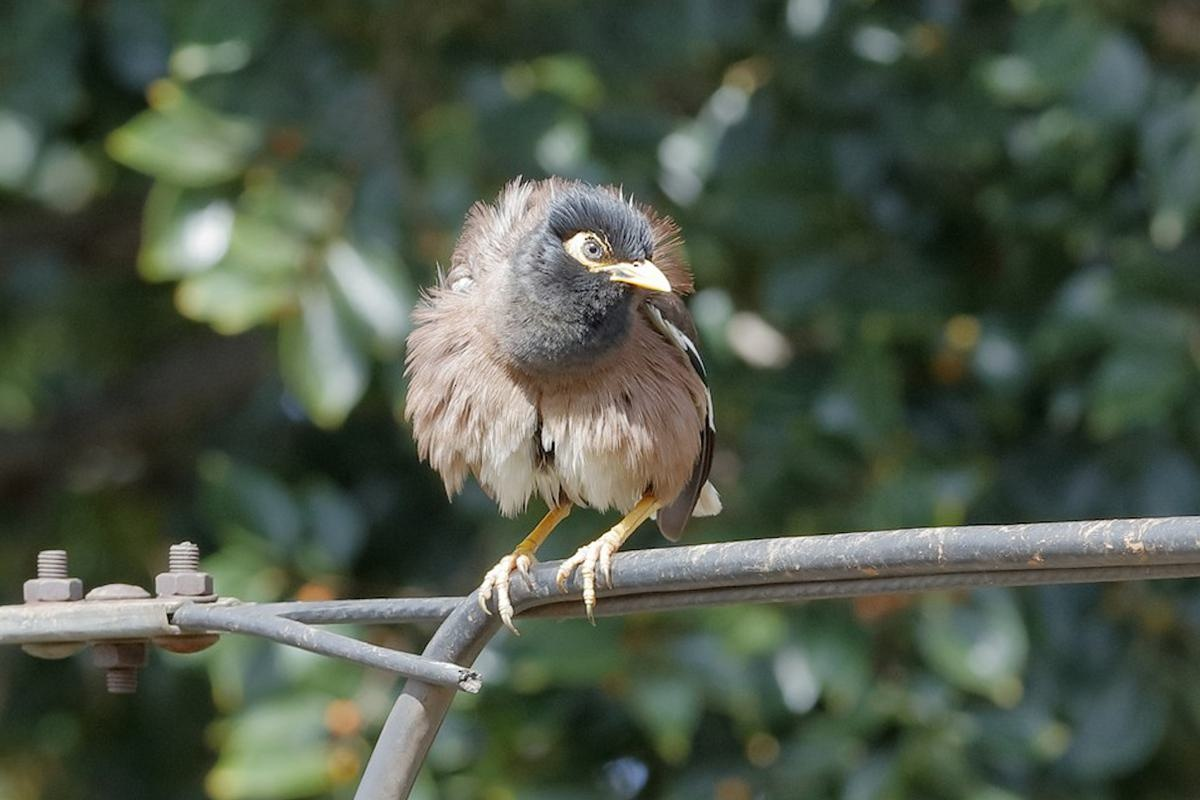myna: (438, 155, 737, 573)
